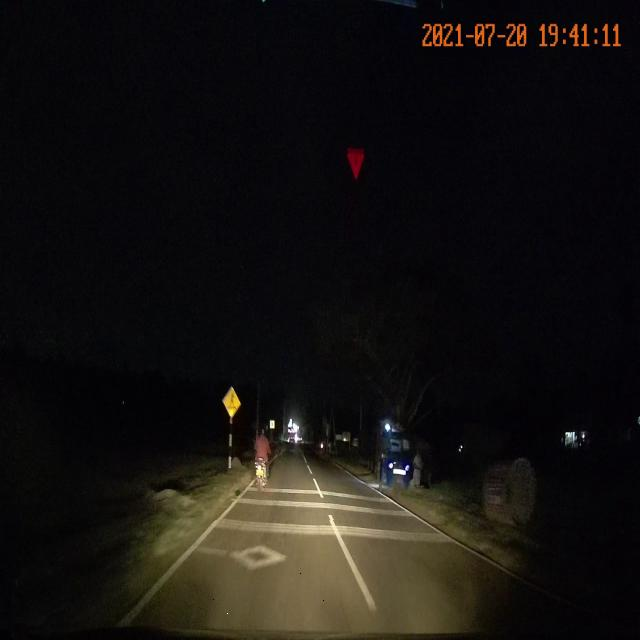diamond: (140, 521, 382, 626)
